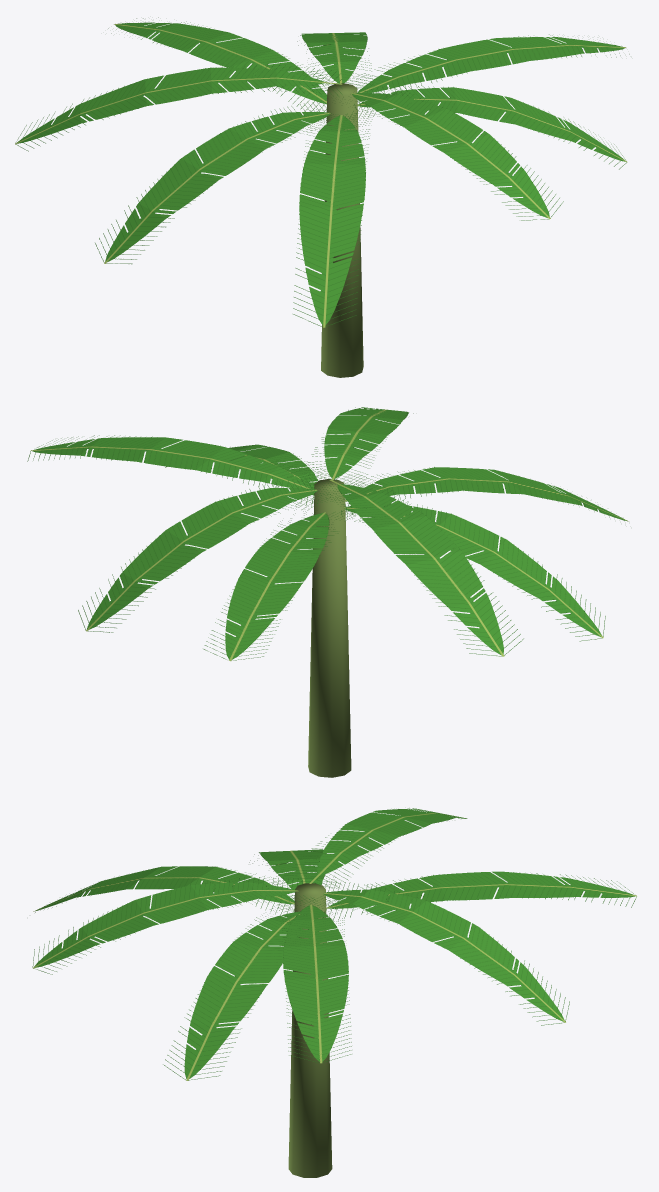
File: BananaPlant.fbx
The picture shows the model from 3 angles, top to bottom: view 1: azimuth 30°, elevation 25°; view 2: azimuth 150°, elevation 25°; view 3: azimuth 270°, elevation 25°; orthographic projection.
Parts seen in each view (by area): view 1: BananaPlant; view 2: BananaPlant; view 3: BananaPlant.
Part boxes in pixels (left/top/right/bottom): BananaPlant: left=15, top=17, right=629, bottom=377; BananaPlant: left=27, top=407, right=628, bottom=777; BananaPlant: left=32, top=808, right=636, bottom=1177.
Bounding box in the file's own units: 4.99 × 2.51 × 4.91.
